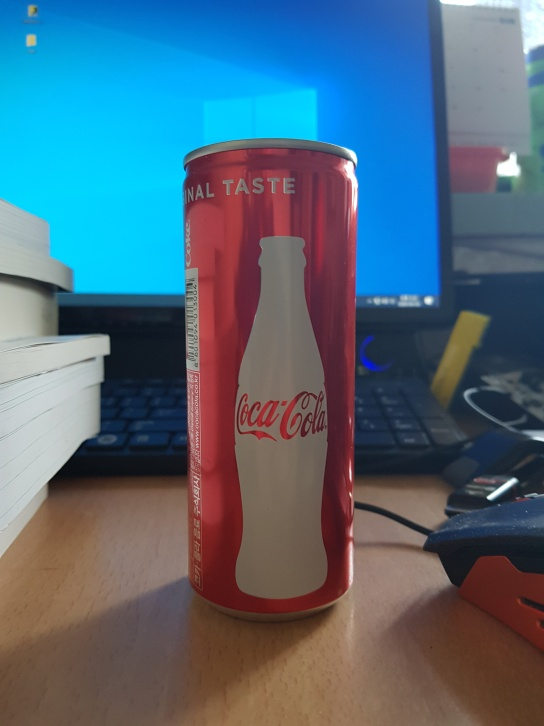Can: (176, 135, 361, 620)
